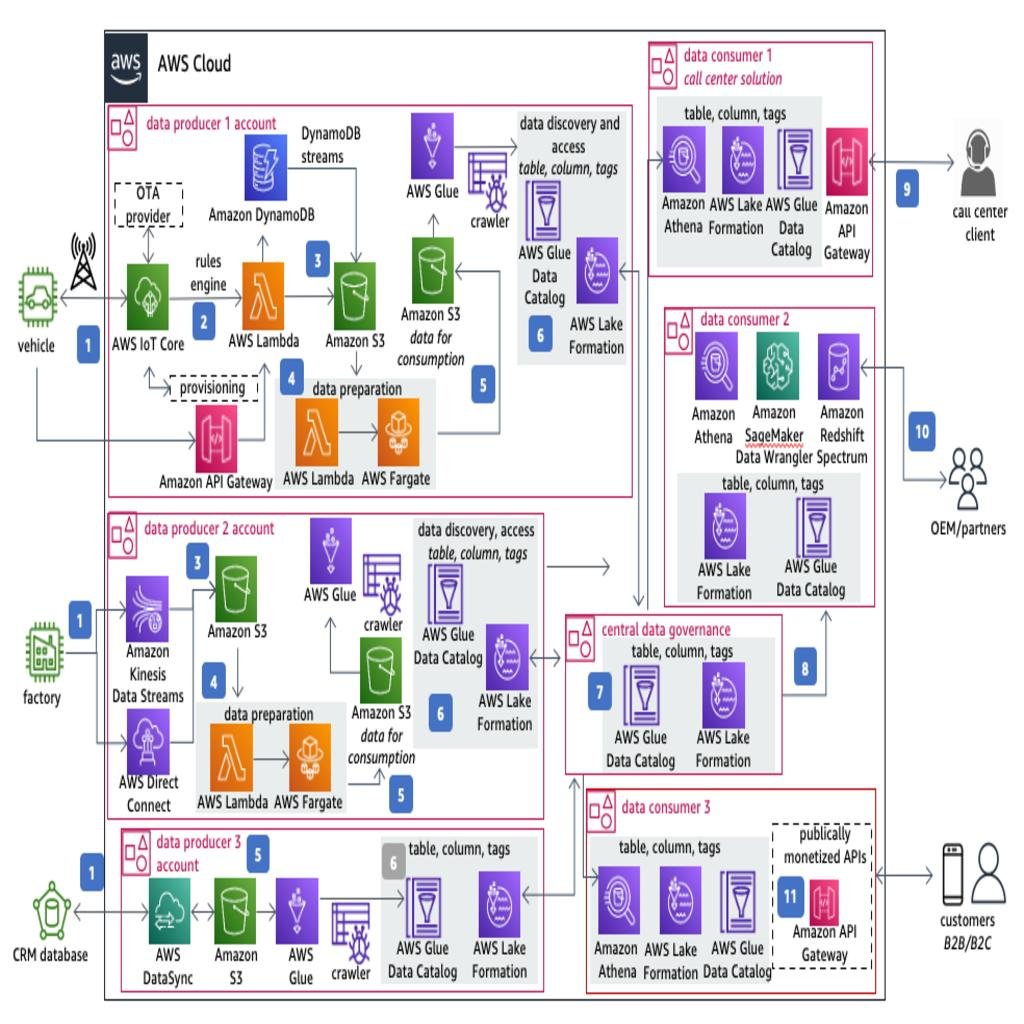actor: (938, 430, 1004, 492), (938, 856, 1004, 916), (20, 260, 64, 338), (20, 873, 64, 950), (20, 612, 64, 688), (958, 124, 1000, 200)
api_gateway: (826, 120, 870, 187), (194, 398, 236, 466), (804, 870, 847, 936)
compute: (754, 330, 798, 397), (296, 398, 339, 466), (383, 398, 426, 466), (236, 266, 280, 332), (124, 576, 167, 643), (212, 722, 255, 789), (291, 722, 334, 789), (124, 266, 167, 332), (148, 878, 190, 945)
data_flow: (638, 225, 642, 414), (200, 333, 206, 425), (546, 790, 552, 872), (544, 562, 610, 568), (58, 296, 122, 302), (862, 160, 956, 164), (172, 296, 234, 302), (865, 873, 937, 878), (277, 296, 333, 302), (886, 361, 953, 366), (58, 607, 122, 612), (58, 909, 122, 914), (334, 753, 393, 758), (327, 582, 332, 638), (450, 269, 504, 274), (238, 430, 305, 434), (168, 586, 211, 592), (556, 888, 599, 894), (354, 333, 359, 384), (802, 579, 806, 640), (168, 663, 211, 668), (556, 269, 599, 274), (354, 179, 359, 220), (451, 256, 456, 297), (448, 149, 484, 154), (443, 909, 479, 914), (786, 668, 822, 673), (339, 430, 382, 434), (264, 196, 268, 238), (255, 753, 288, 758), (374, 909, 400, 914), (504, 176, 530, 180), (256, 909, 276, 914), (198, 909, 212, 914), (318, 909, 332, 914)
database_storage: (244, 128, 288, 196), (406, 118, 450, 185), (406, 243, 450, 310), (576, 238, 620, 305), (362, 545, 406, 612), (482, 627, 526, 694), (400, 878, 444, 945), (792, 491, 836, 558), (462, 144, 505, 212), (308, 514, 351, 582), (424, 562, 467, 630), (654, 870, 698, 936), (212, 878, 255, 945), (332, 893, 375, 960), (716, 120, 759, 187), (772, 120, 815, 187), (816, 330, 859, 397), (335, 266, 378, 332), (214, 556, 257, 622), (478, 870, 521, 936), (595, 870, 638, 936), (360, 632, 402, 699), (278, 878, 320, 945), (660, 120, 702, 187), (694, 330, 736, 397), (700, 491, 742, 558), (622, 663, 664, 730), (710, 663, 752, 730), (528, 174, 570, 240), (714, 870, 756, 936)
network_security: (124, 702, 167, 768)
trust_boundary: (102, 20, 884, 1004), (106, 102, 636, 496), (106, 512, 546, 819), (650, 0, 872, 333), (120, 827, 544, 996), (654, 302, 868, 605), (584, 786, 876, 996), (564, 614, 782, 778)
